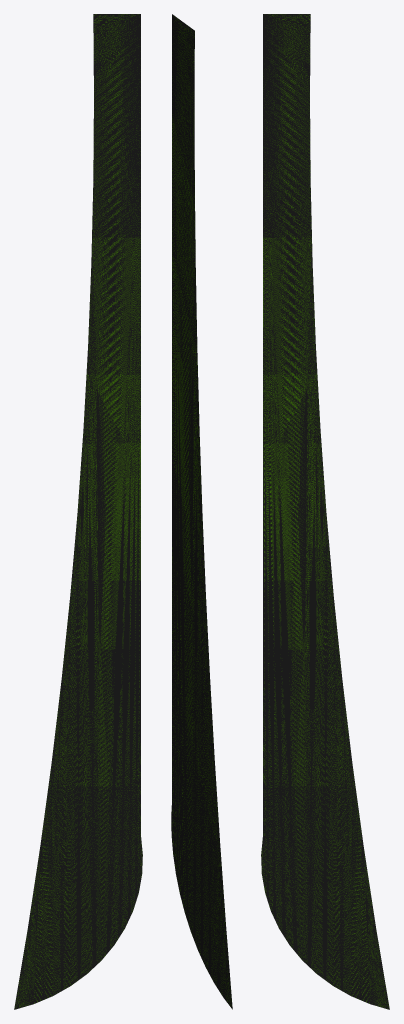
Rendered from original-39.obj.
3 views of the same model, side by side, from view 1: azimuth 90°, elevation 25°; view 2: azimuth 210°, elevation 25°; view 3: azimuth 270°, elevation 25° (orthographic). The views are drawn at different scales.
Visible parts, largest first — view 1: mesh2/mesh2-geometry/material_3/component_0#mesh2-geometry; view 2: mesh2/mesh2-geometry/material_3/component_0#mesh2-geometry; view 3: mesh2/mesh2-geometry/material_3/component_0#mesh2-geometry.
Boxes of the visible parts, left/top/right/bottom form: mesh2/mesh2-geometry/material_3/component_0#mesh2-geometry: left=14, top=14, right=142, bottom=1009; mesh2/mesh2-geometry/material_3/component_0#mesh2-geometry: left=171, top=14, right=232, bottom=1009; mesh2/mesh2-geometry/material_3/component_0#mesh2-geometry: left=261, top=14, right=389, bottom=1009.
Size of the model in its own units: 0 by 1.92 by 0.2255.
